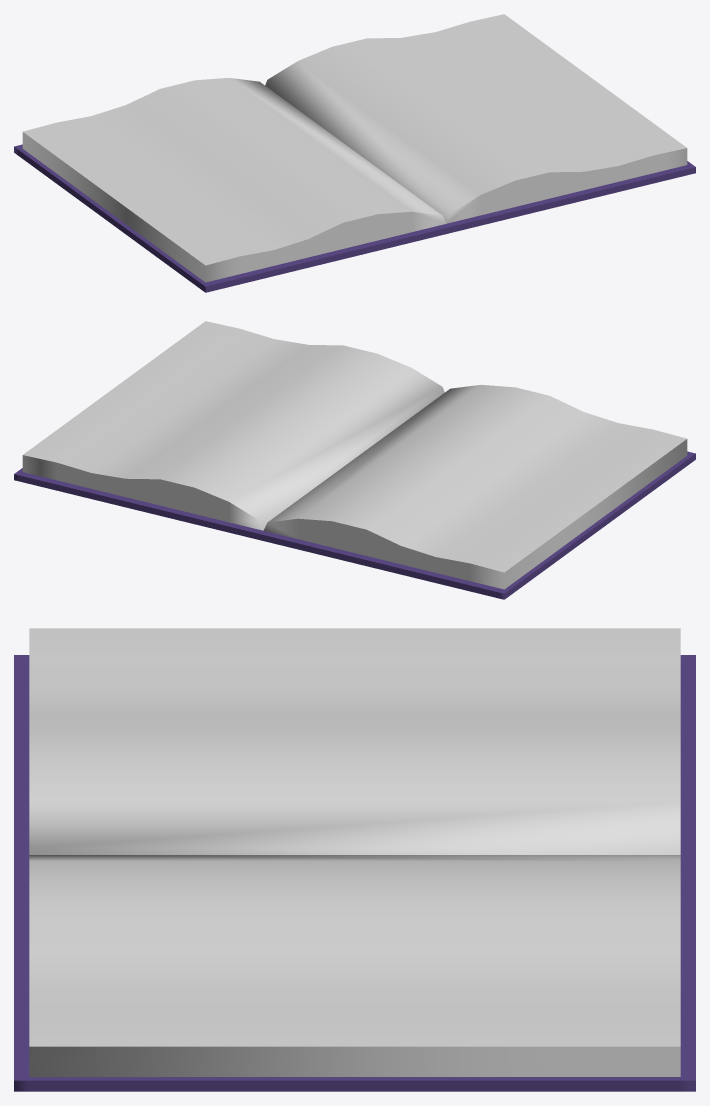
The model's file is openBook.fbx.
The picture shows the model from 3 angles, top to bottom: view 1: azimuth 30°, elevation 25°; view 2: azimuth 150°, elevation 25°; view 3: azimuth 270°, elevation 25°; orthographic projection. The views are drawn at different scales.
Parts seen in each view (by area): view 1: Open Book; view 2: Open Book; view 3: Open Book.
Boxes of the visible parts, box(x1,y1,x2,y2) form: Open Book: box(14, 14, 695, 292); Open Book: box(14, 321, 695, 599); Open Book: box(14, 628, 695, 1091).
Bounding box in the file's own units: 1394 × 943 × 88.05.
